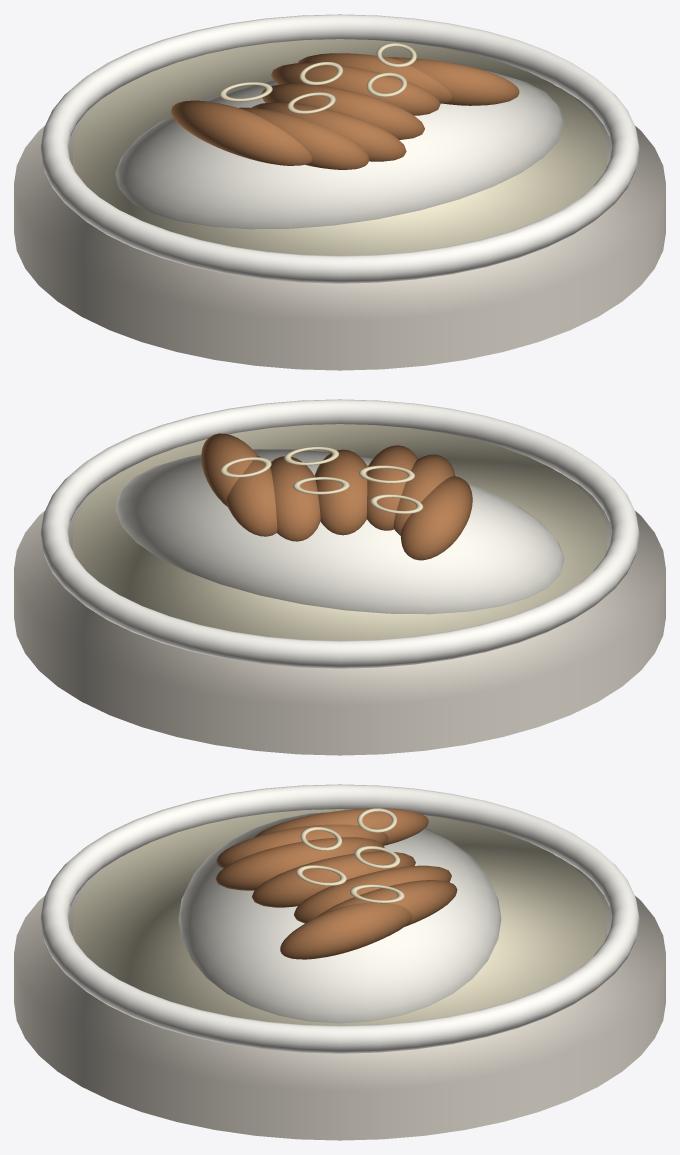
Rendered from fried_rice.glb.
3 views of the same model, one above another, from view 1: azimuth 30°, elevation 25°; view 2: azimuth 150°, elevation 25°; view 3: azimuth 270°, elevation 25° (orthographic).
Bounding box in the file's own units: 2.1 × 0.5209 × 2.1.
